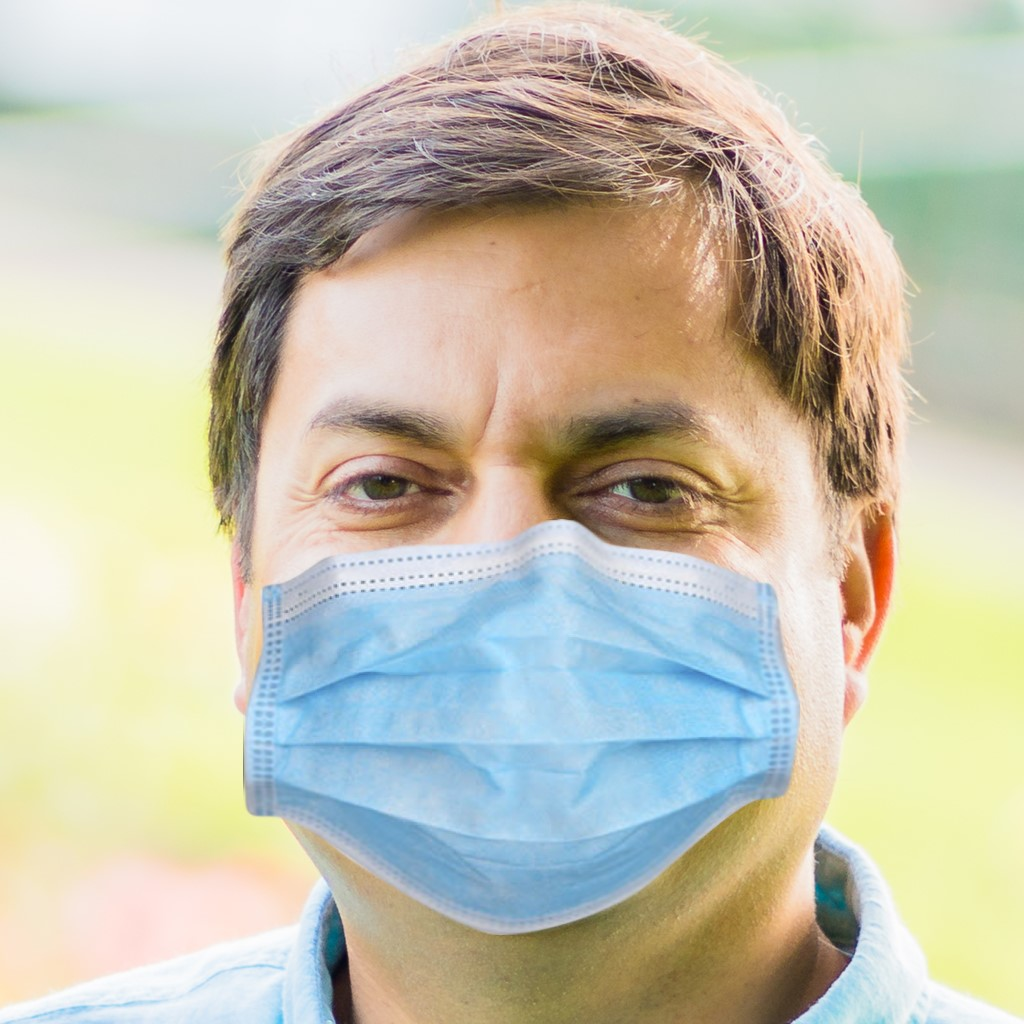con_mascara: (282, 183, 820, 939)
